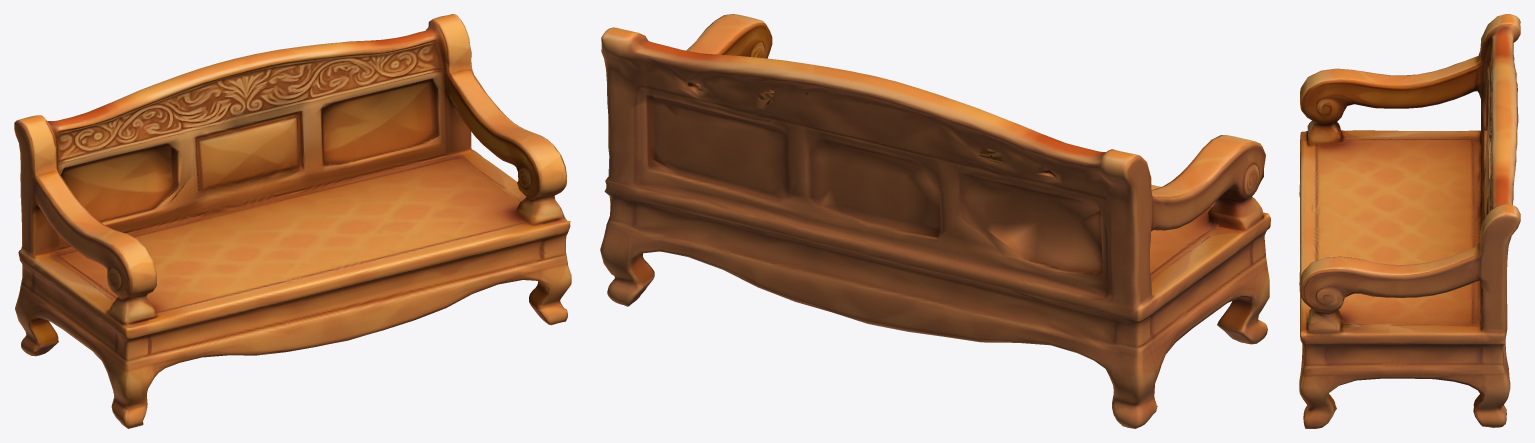
The model's file is Sofa.glb.
The picture shows the model from 3 angles, left to right: view 1: azimuth 30°, elevation 25°; view 2: azimuth 150°, elevation 25°; view 3: azimuth 270°, elevation 25°; orthographic projection. The views are drawn at different scales.
Bounding box in the file's own units: 1.91 × 0.9691 × 0.8661.
1 material, 1 textured.
